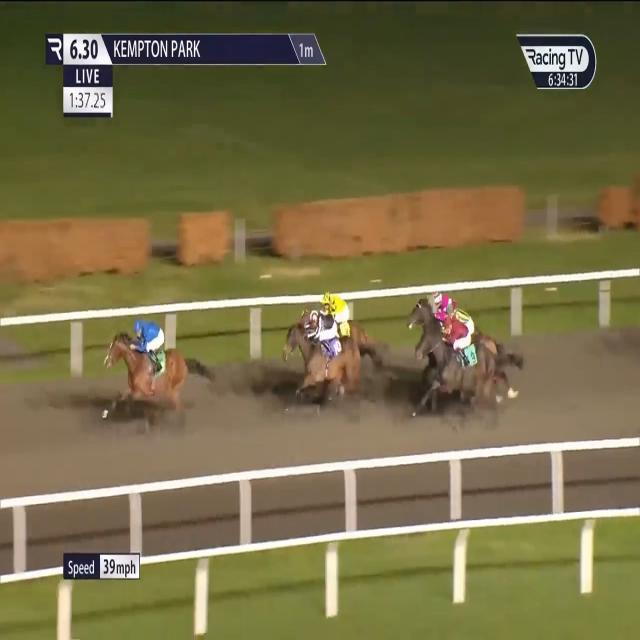horses-racing: (101, 316, 203, 426), (410, 318, 506, 422), (278, 312, 365, 401), (313, 289, 376, 355), (431, 303, 499, 350), (410, 292, 456, 330)
